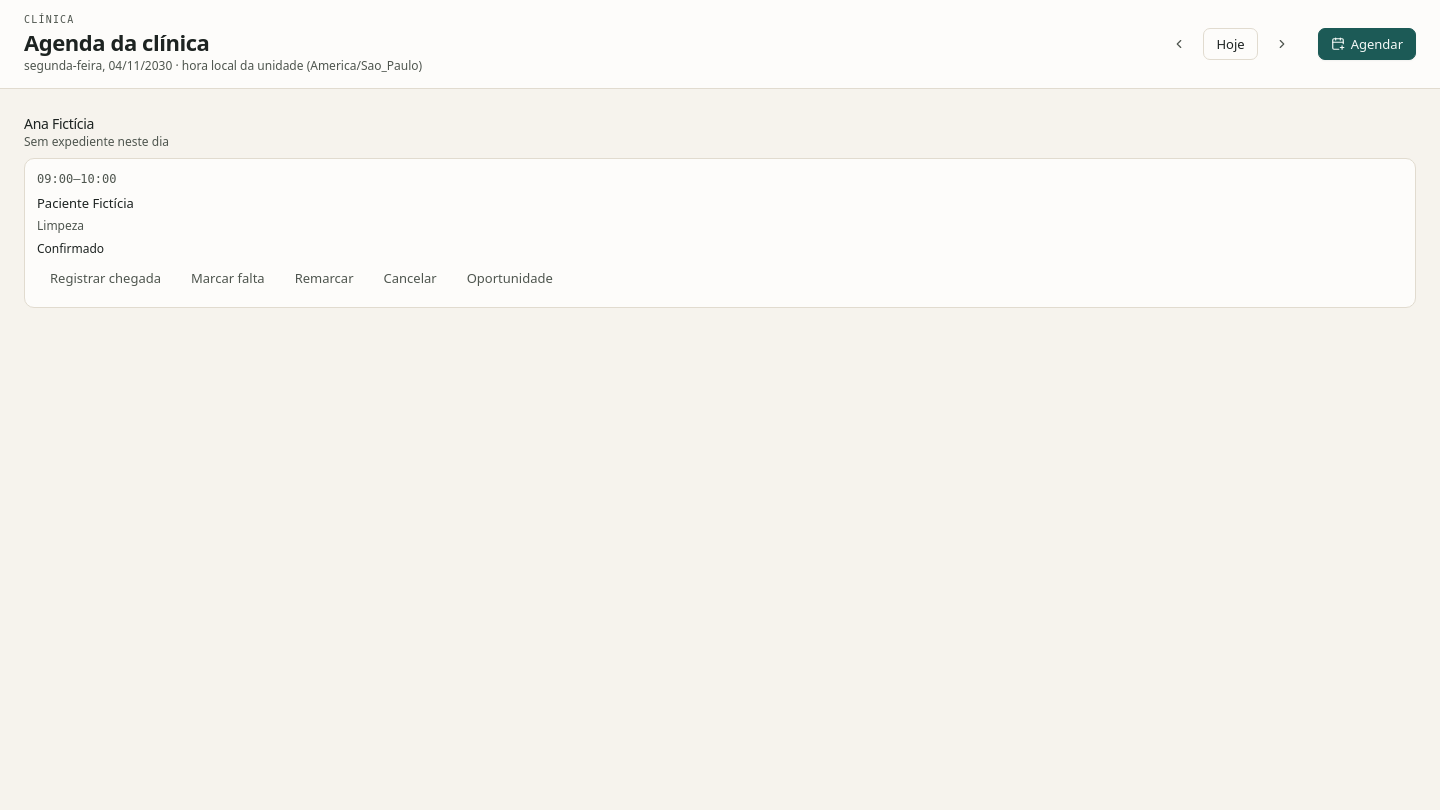
Test: vínculo do agendamento com a oportunidade › troca o vínculo sem efeito; a oportunidade de outro contato é dita, não escondida
The width and height of the screenshot is (1440, 810).
Click the button "Oportunidade" at (510, 279), box x1=454 y1=263 x2=566 y2=295
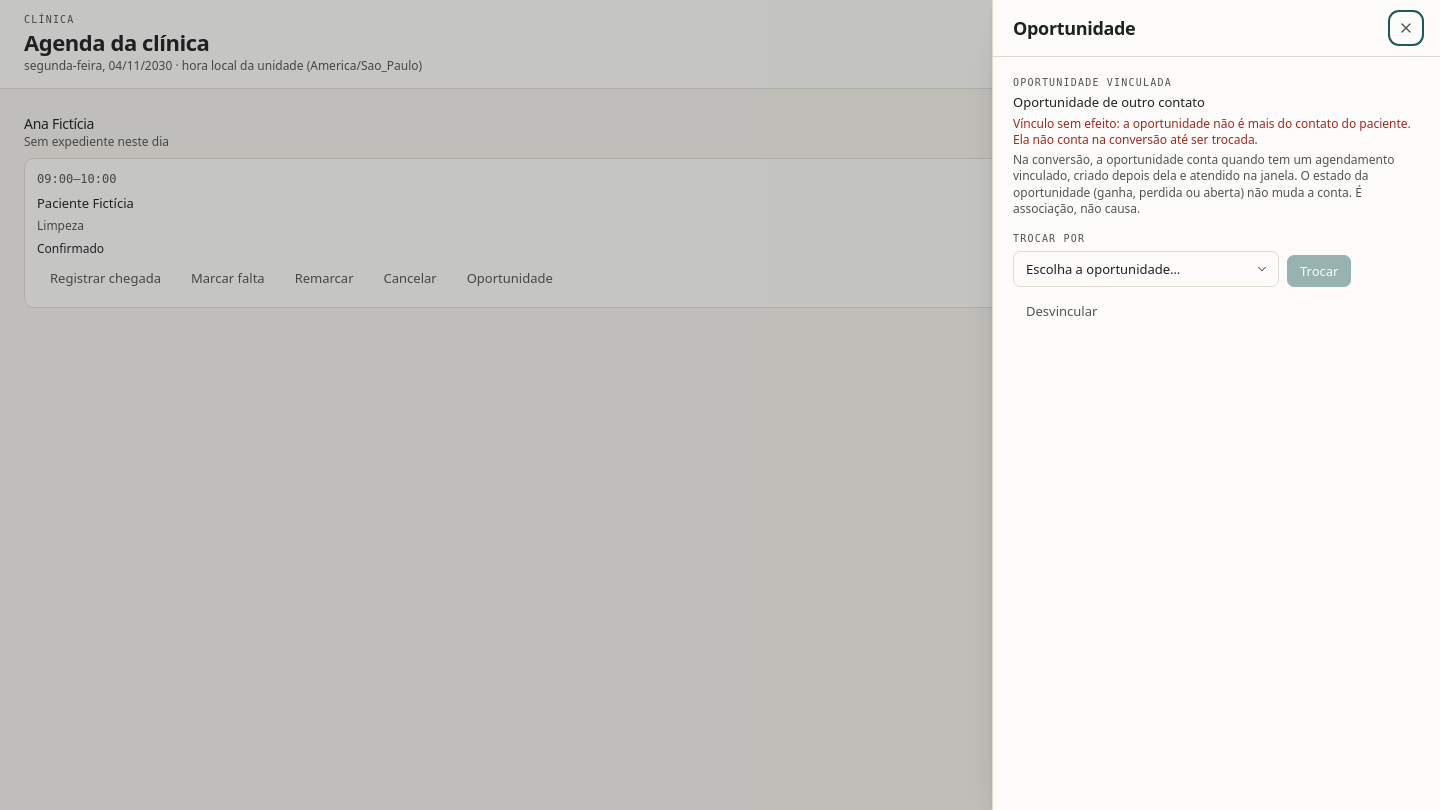
Result: the text "Oportunidade de outro contato" is shown at x1=1013 y1=93 x2=1205 y2=111
Result: the text "Vínculo sem efeito" is shown at x1=1013 y1=115 x2=1411 y2=148
Select "Pacote facial · criada em 01/10/2030" in the dropdown labelled "Trocar por" at (1146, 269), box x1=1013 y1=251 x2=1279 y2=287
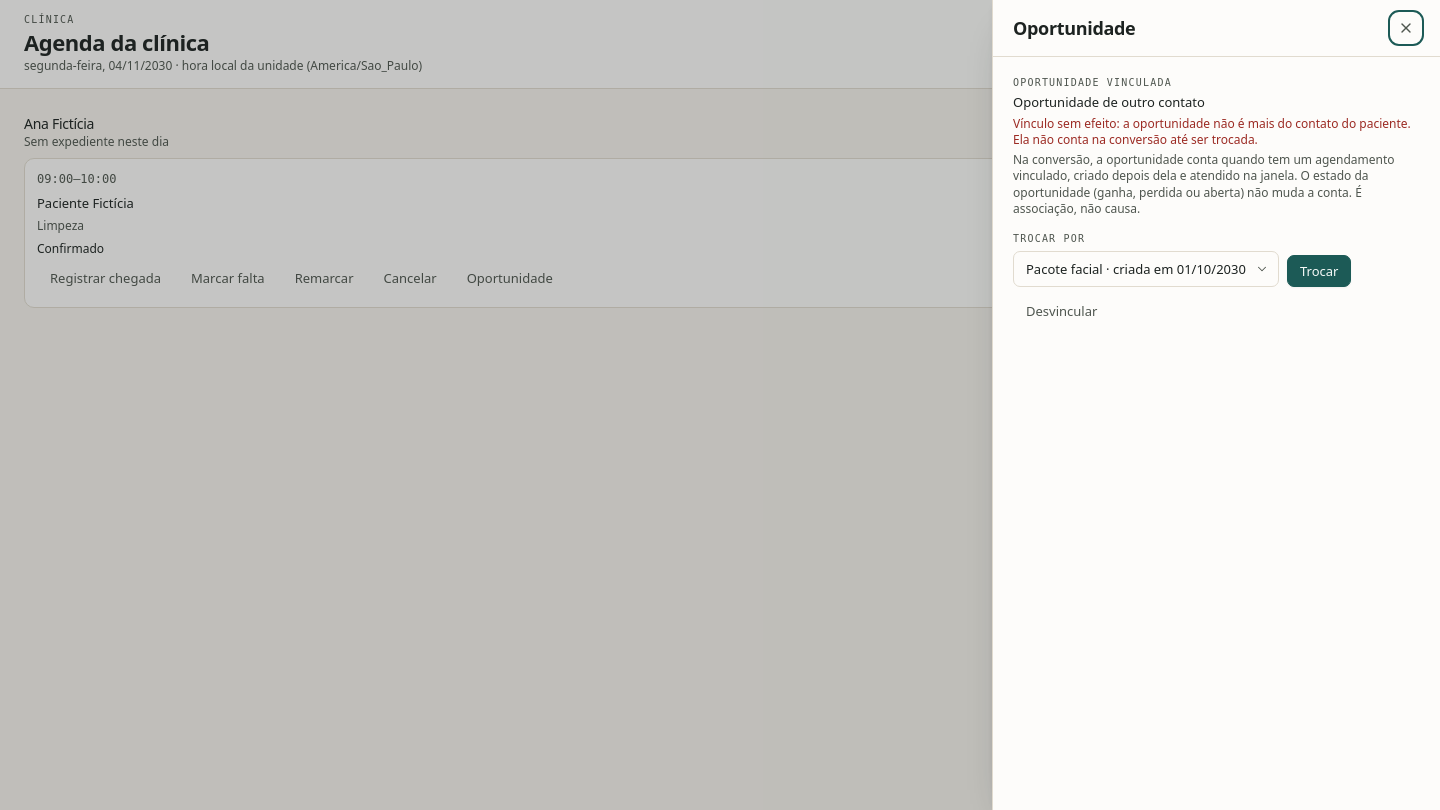
Click the button "Trocar" at (1319, 271), box x1=1287 y1=255 x2=1352 y2=287
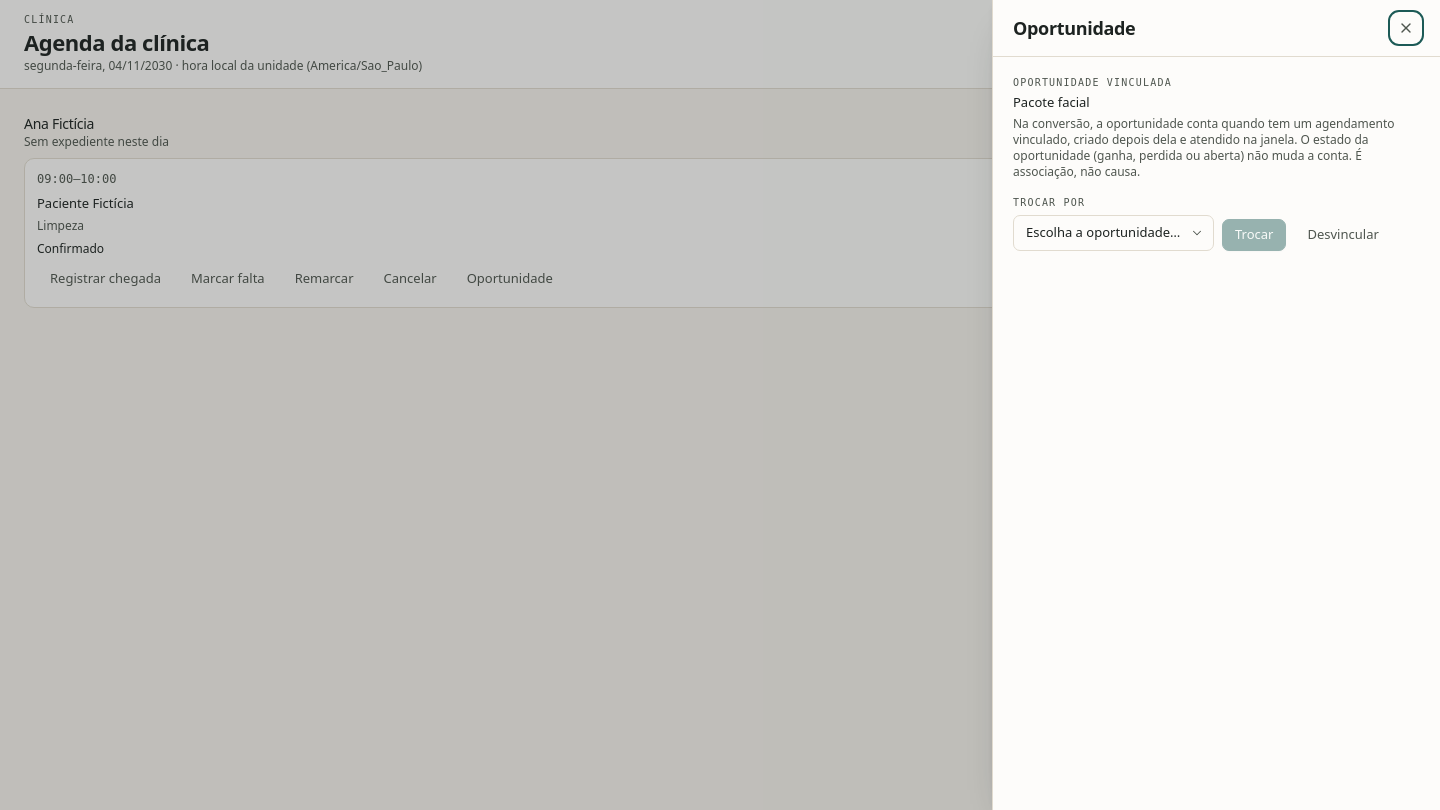
Result: the text "Pacote facial" is shown at x1=1013 y1=93 x2=1090 y2=111
